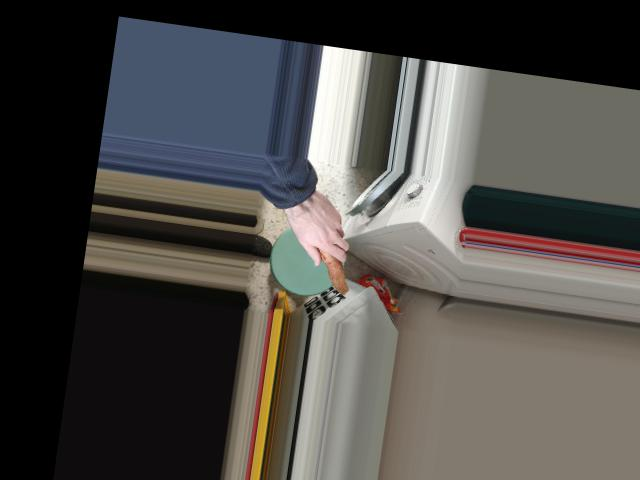sweet_potato: (294, 212, 358, 292)
